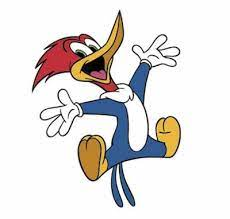picapau: (19, 7, 194, 212)
